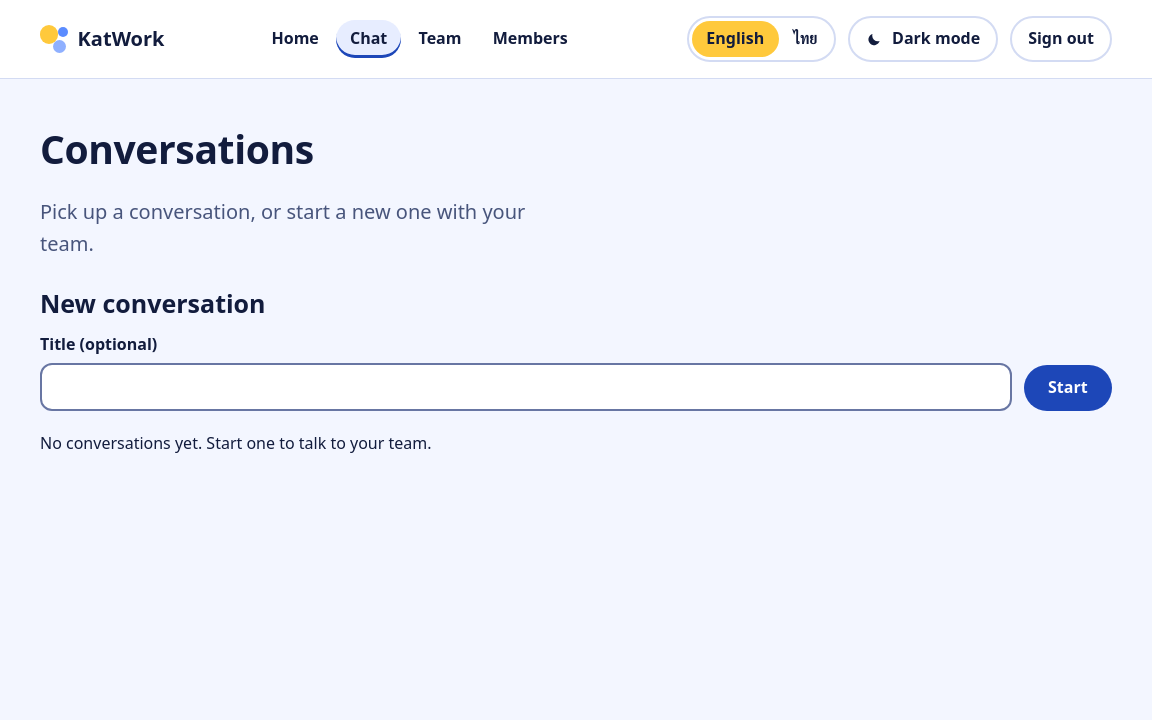
Test case: new_conversation_is_created_with_the_default_team
Expected: the text "No conversations yet. Start one to talk to your team." is shown, [40, 432, 432, 454]
Type "แผนงาน" into the field labelled "Title (optional)" at (526, 387), box [40, 363, 1012, 411]
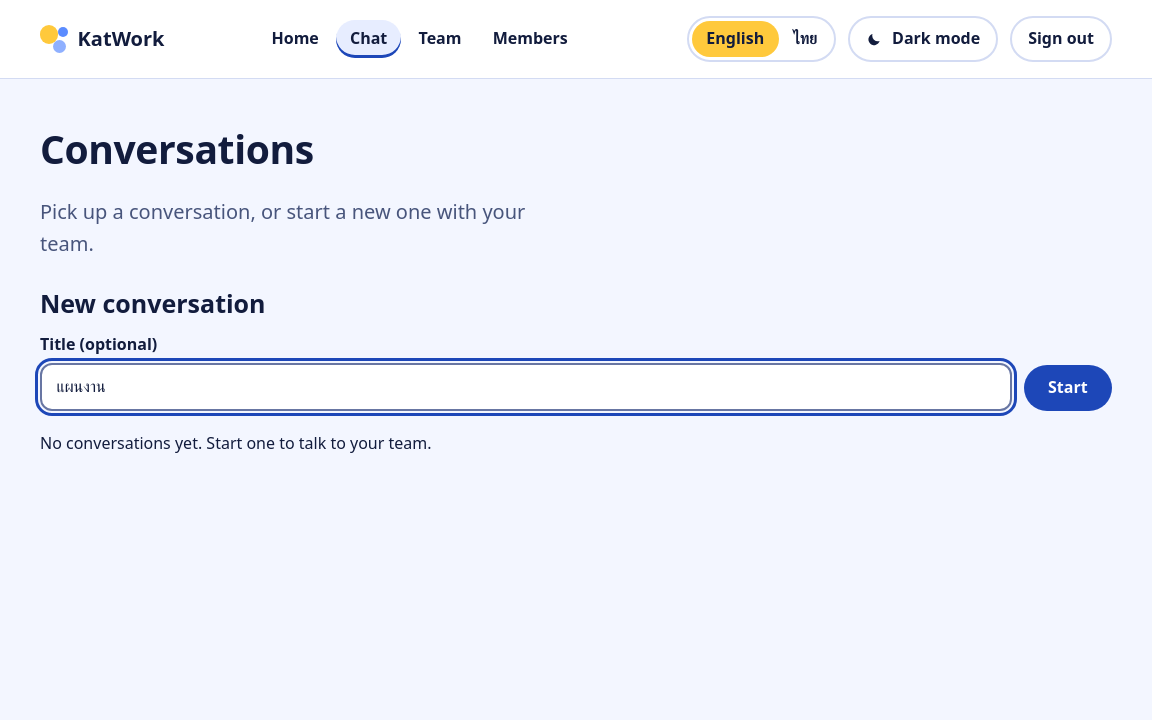
Click the button "Start" at (1068, 388), box [1024, 365, 1112, 411]
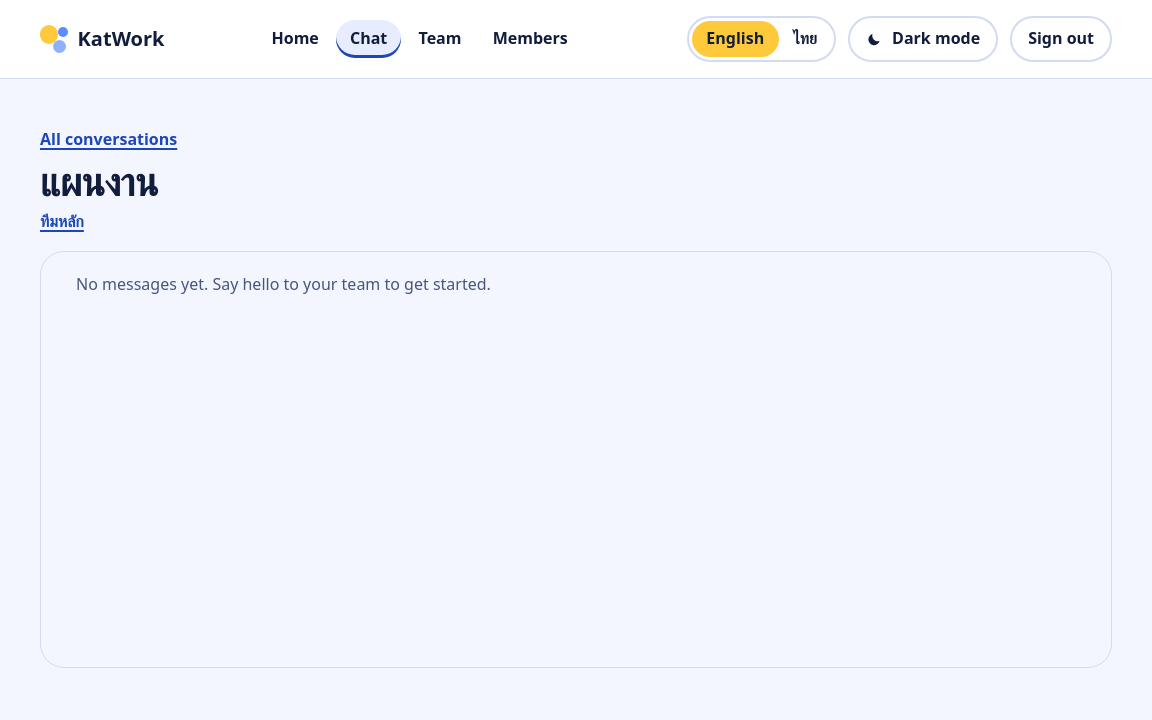
Now the heading "แผนงาน" is shown, box [40, 154, 158, 207]
